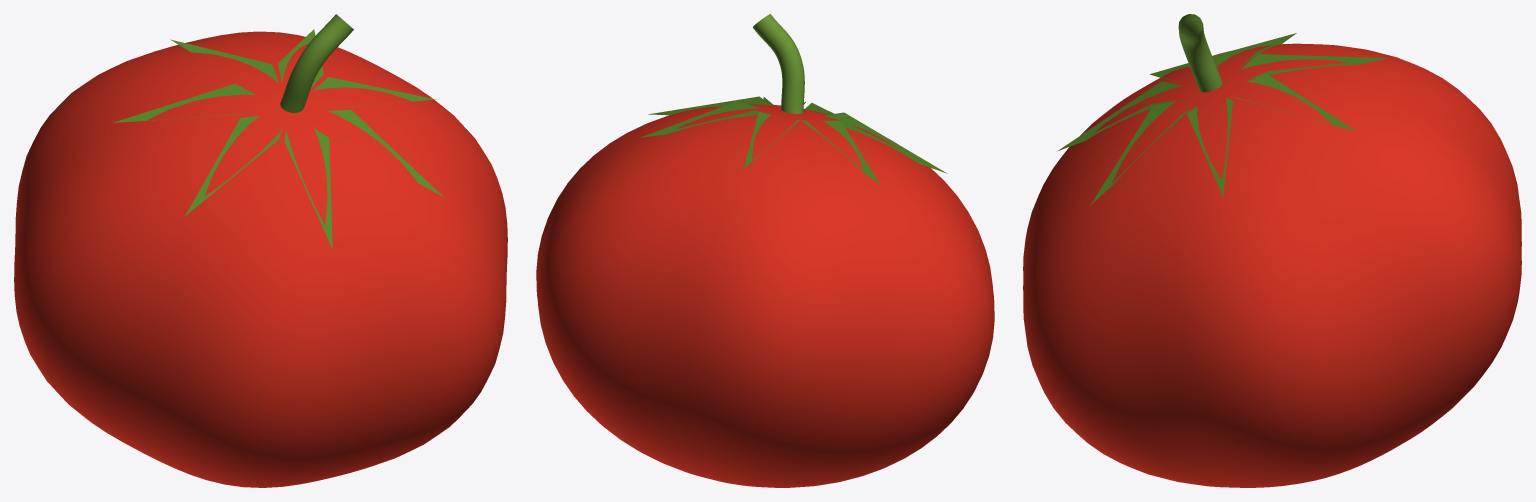
File: tomato.glb
3 views of the same model, side by side, from view 1: azimuth 30°, elevation 25°; view 2: azimuth 150°, elevation 25°; view 3: azimuth 270°, elevation 25° (orthographic). The views are drawn at different scales.
Parts seen in each view (by area): view 1: Tomato rounded lobed fruit, Tomato short curved stalk, Tomato green calyx 6, Tomato green calyx 5, Tomato green calyx 4, Tomato green calyx 7, Tomato green calyx 1, Tomato green calyx 3; view 2: Tomato rounded lobed fruit, Tomato short curved stalk, Tomato green calyx 5, Tomato green calyx 2, Tomato green calyx 4, Tomato green calyx 1; view 3: Tomato rounded lobed fruit, Tomato short curved stalk, Tomato green calyx 3, Tomato green calyx 6, Tomato green calyx 7, Tomato green calyx 2, Tomato green calyx 1, Tomato green calyx 4.
Boxes of the visible parts, x1,y1,x2,y2 form: Tomato rounded lobed fruit: [14, 31, 507, 487]; Tomato short curved stalk: [280, 14, 353, 112]; Tomato green calyx 6: [284, 128, 332, 248]; Tomato green calyx 5: [185, 116, 282, 215]; Tomato green calyx 4: [113, 84, 255, 122]; Tomato green calyx 7: [323, 110, 443, 196]; Tomato green calyx 1: [313, 77, 435, 107]; Tomato green calyx 3: [170, 39, 278, 82]; Tomato rounded lobed fruit: [536, 104, 994, 487]; Tomato short curved stalk: [752, 14, 804, 113]; Tomato green calyx 5: [824, 113, 946, 173]; Tomato green calyx 2: [640, 101, 768, 137]; Tomato green calyx 4: [801, 120, 880, 184]; Tomato green calyx 1: [648, 96, 771, 115]; Tomato rounded lobed fruit: [1023, 43, 1521, 487]; Tomato short curved stalk: [1178, 14, 1222, 92]; Tomato green calyx 3: [1241, 54, 1389, 79]; Tomato green calyx 6: [1058, 81, 1181, 150]; Tomato green calyx 7: [1090, 101, 1192, 205]; Tomato green calyx 2: [1230, 74, 1356, 131]; Tomato green calyx 1: [1187, 98, 1232, 196]; Tomato green calyx 4: [1213, 33, 1296, 68].
Size of the model in its own units: 0.2169 by 0.206 by 0.2007.
